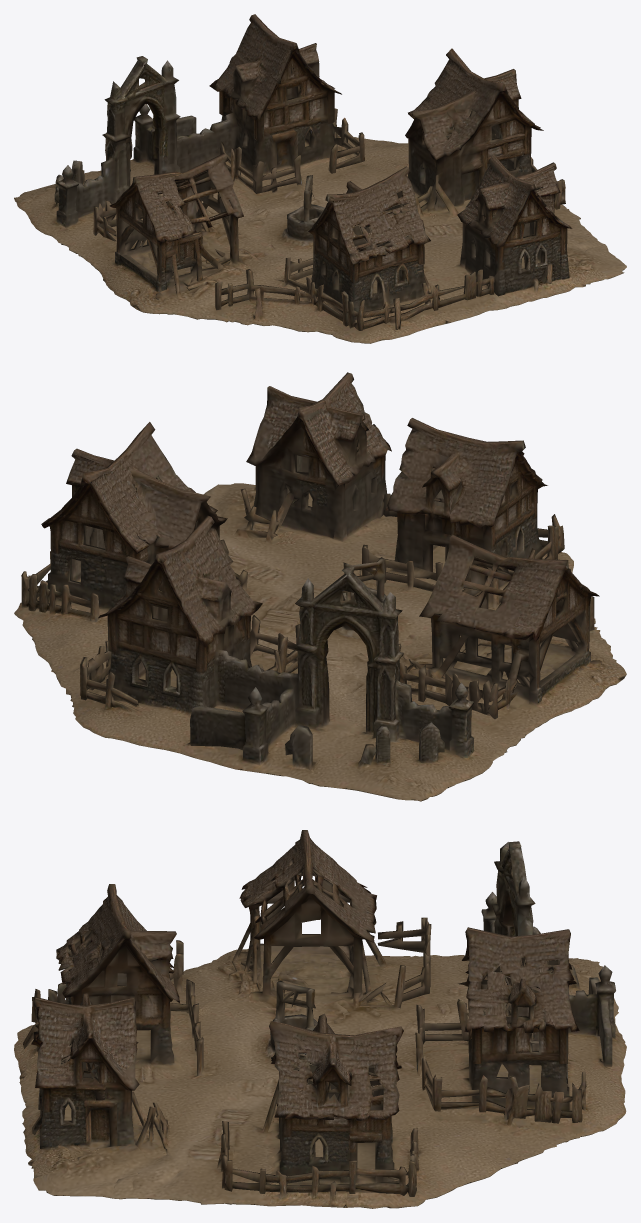
The model's file is undead-1.glb.
The picture shows the model from 3 angles, top to bottom: view 1: azimuth 30°, elevation 25°; view 2: azimuth 150°, elevation 25°; view 3: azimuth 270°, elevation 25°; orthographic projection. The views are drawn at different scales.
Parts seen in each view (by area): view 1: tripo_node_6c2f29a3-4880-4672-b45f-049653273d33; view 2: tripo_node_6c2f29a3-4880-4672-b45f-049653273d33; view 3: tripo_node_6c2f29a3-4880-4672-b45f-049653273d33.
Part boxes in pixels (x1,y1,x2,y2): tripo_node_6c2f29a3-4880-4672-b45f-049653273d33: [14, 14, 626, 343]; tripo_node_6c2f29a3-4880-4672-b45f-049653273d33: [14, 372, 626, 801]; tripo_node_6c2f29a3-4880-4672-b45f-049653273d33: [14, 830, 626, 1208].
Bounding box in the file's own units: 1 × 0.3155 × 0.9975.
1 material, 1 textured.
